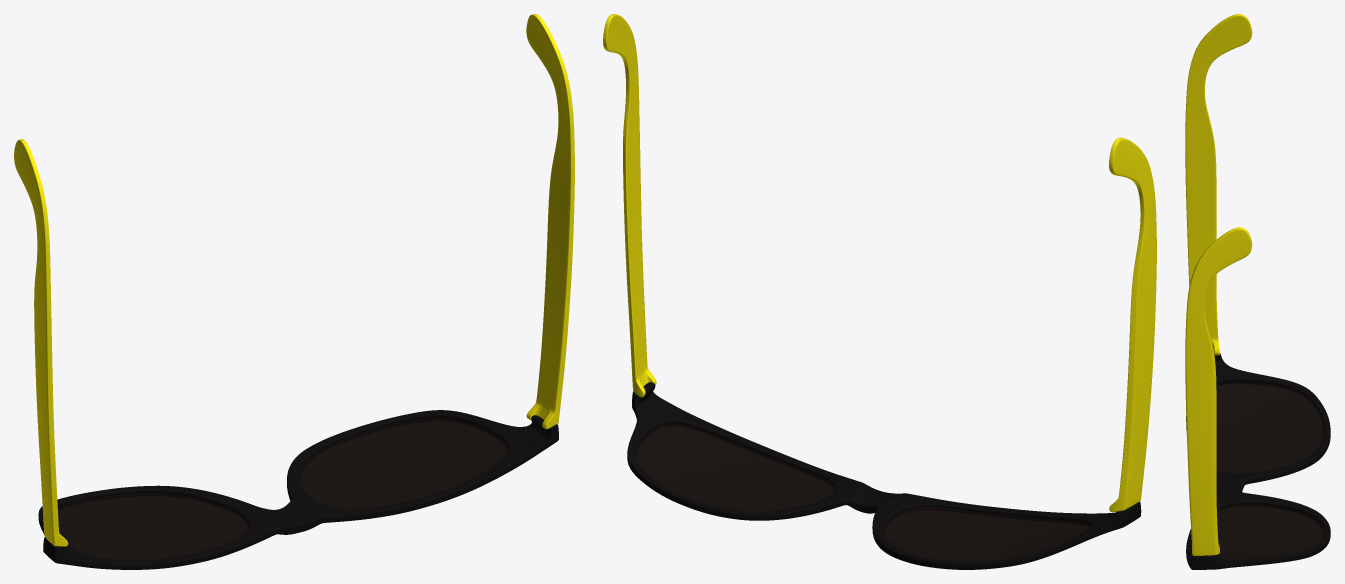
File: Sunglasses.obj
3 renders of one model, left to right at view 1: azimuth 30°, elevation 25°; view 2: azimuth 150°, elevation 25°; view 3: azimuth 270°, elevation 25°, orthographic. The views are drawn at different scales.
Parts seen in each view (by area): view 1: sunglasses_body, sunglasses_lens; view 2: sunglasses_body, sunglasses_lens; view 3: sunglasses_body, sunglasses_lens.
Part boxes in pixels (box(x1,y1,x2,y2)): sunglasses_body: box(14, 14, 574, 569); sunglasses_lens: box(57, 418, 507, 559); sunglasses_body: box(603, 14, 1156, 569); sunglasses_lens: box(635, 423, 1090, 561); sunglasses_body: box(1185, 14, 1330, 569); sunglasses_lens: box(1216, 381, 1323, 560).
Size of the model in its own units: 6.36 by 5.08 by 1.78.
Materials: 2 (1 with a texture image).
